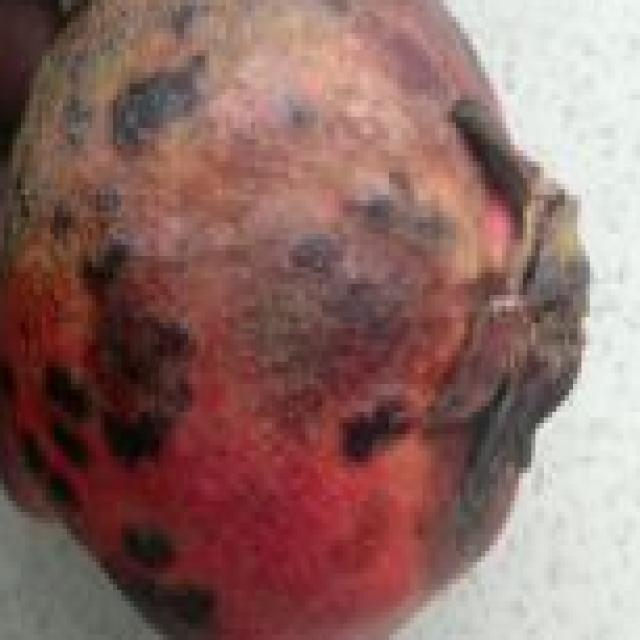Bad_Pomegranate-0-1-day: (0, 0, 590, 640)
